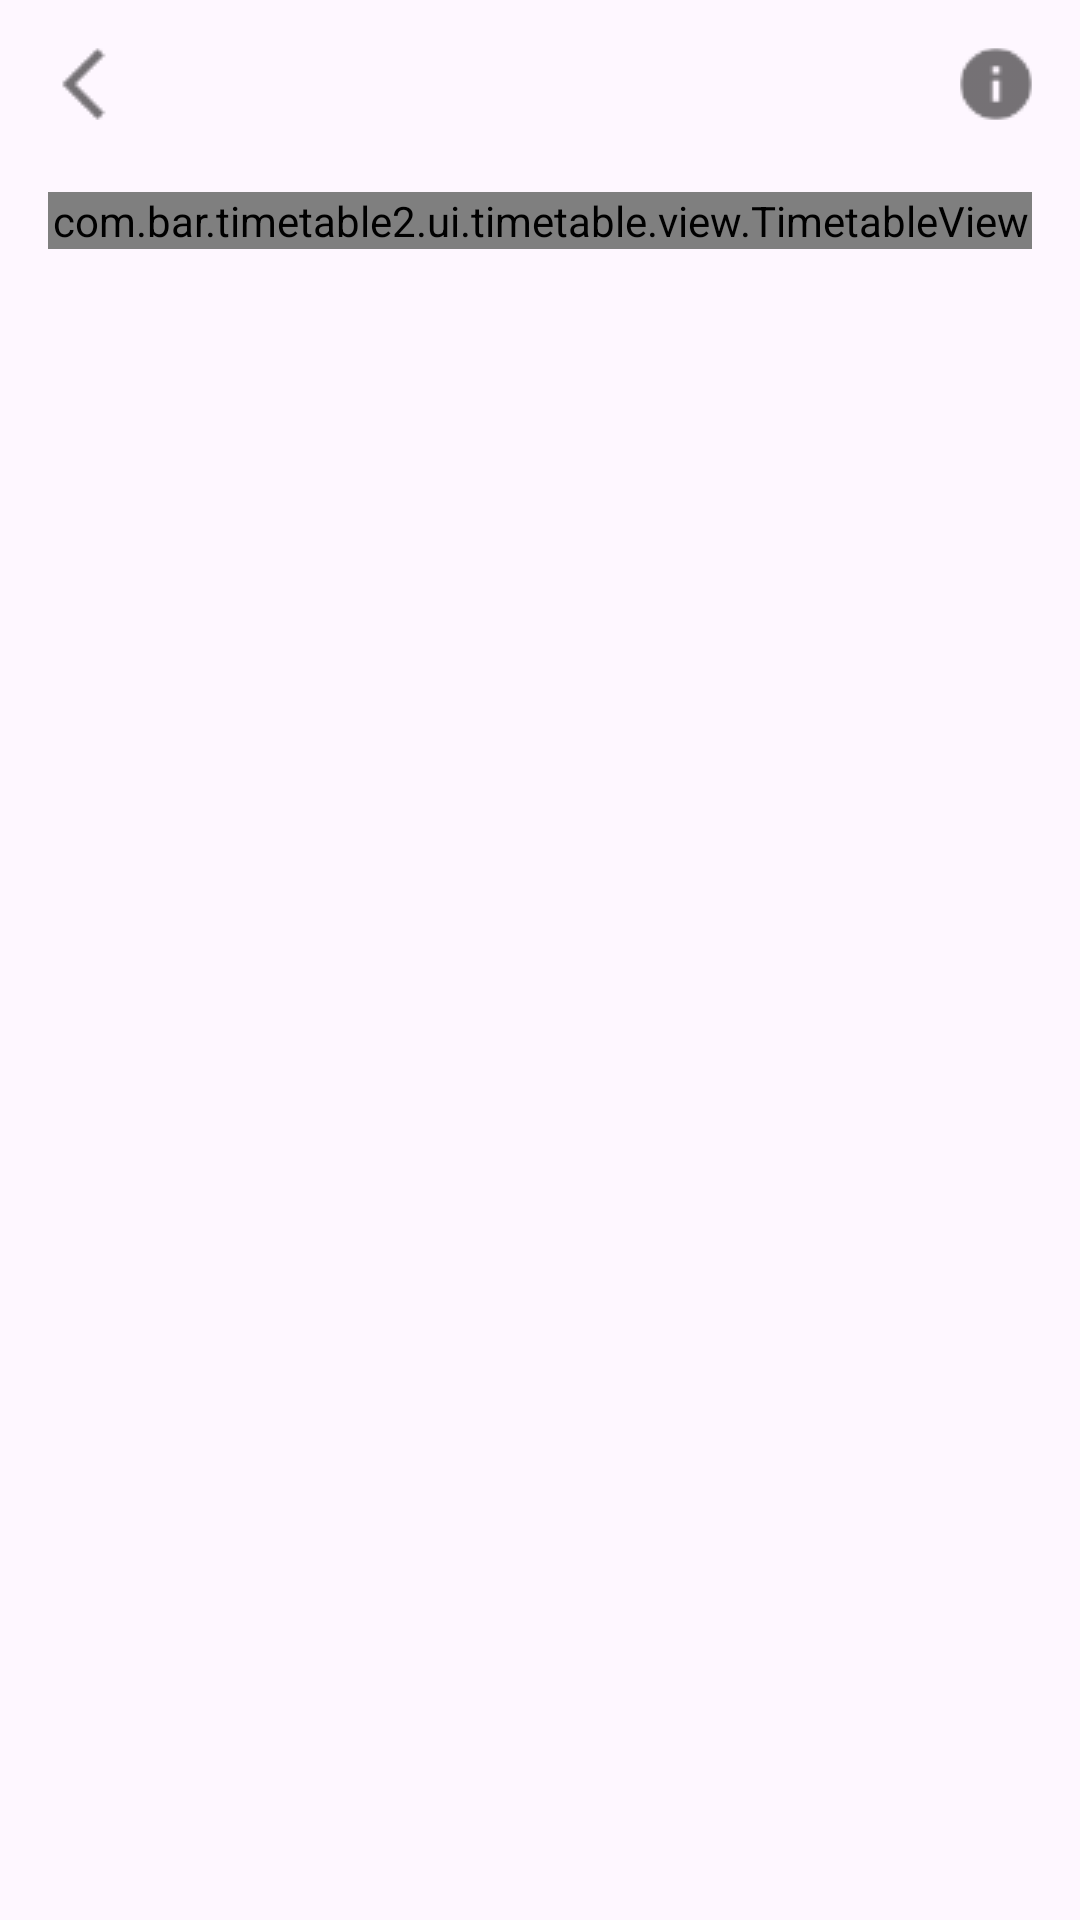

Screen size 1080px x 1920px. Icon name, then its center in pixels as point (x, y):
뒤로가기: point (83, 84)
